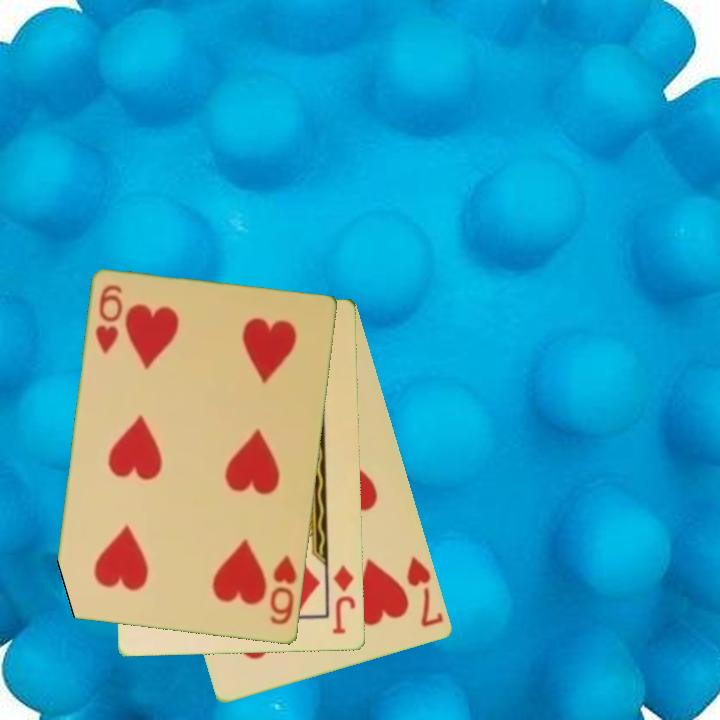6h: (92, 281, 126, 357), (267, 552, 300, 628)
7h: (403, 552, 447, 630)
Jd: (330, 562, 358, 637)
